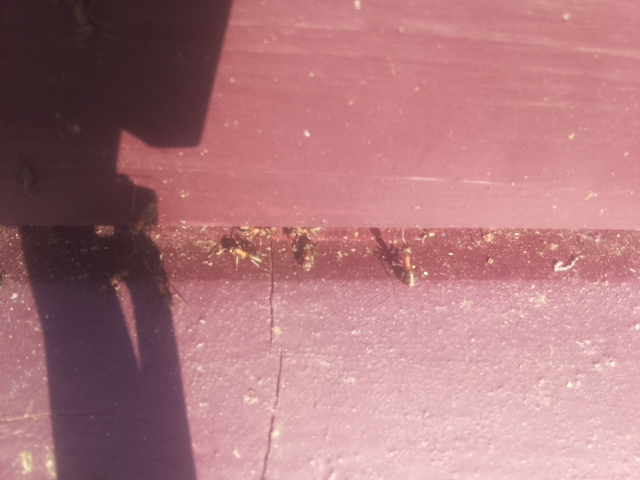ant: (211, 225, 267, 270), (63, 0, 106, 51), (291, 225, 321, 274), (397, 238, 420, 295), (13, 160, 42, 197), (551, 248, 584, 279)
